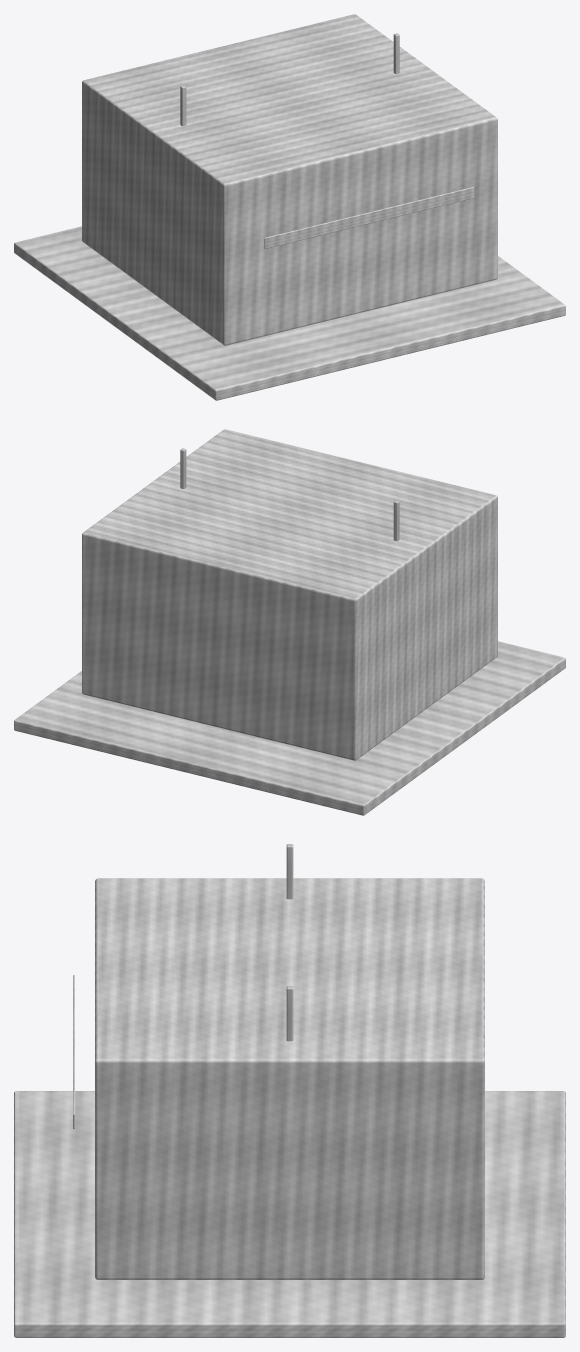
The model's file is nuclear-power-plant_variant_c.glb.
3 views of the same model, one above another, from view 1: azimuth 30°, elevation 25°; view 2: azimuth 150°, elevation 25°; view 3: azimuth 270°, elevation 25° (orthographic). The views are drawn at different scales.
Parts seen in each view (by area): view 1: Equipment body.002, Foundation.002, Connection plate.003; view 2: Equipment body.002, Foundation.002; view 3: Equipment body.002, Foundation.002.
Part boxes in pixels (<box>): Equipment body.002: <box>82,14,497,345</box>; Foundation.002: <box>14,226,565,400</box>; Connection plate.003: <box>264,187,474,248</box>; Equipment body.002: <box>82,429,497,760</box>; Foundation.002: <box>14,641,565,815</box>; Equipment body.002: <box>95,878,484,1279</box>; Foundation.002: <box>14,1091,565,1337</box>.
Size of what is drawn, in the model's own units: 14.72 by 9 by 14.72.
4 materials, 4 textured.
